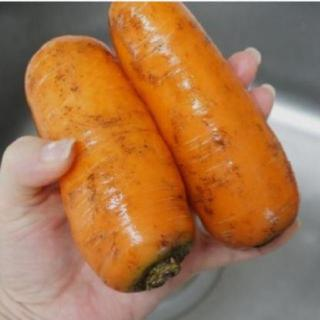carrot: (103, 2, 301, 248), (22, 26, 198, 298)
